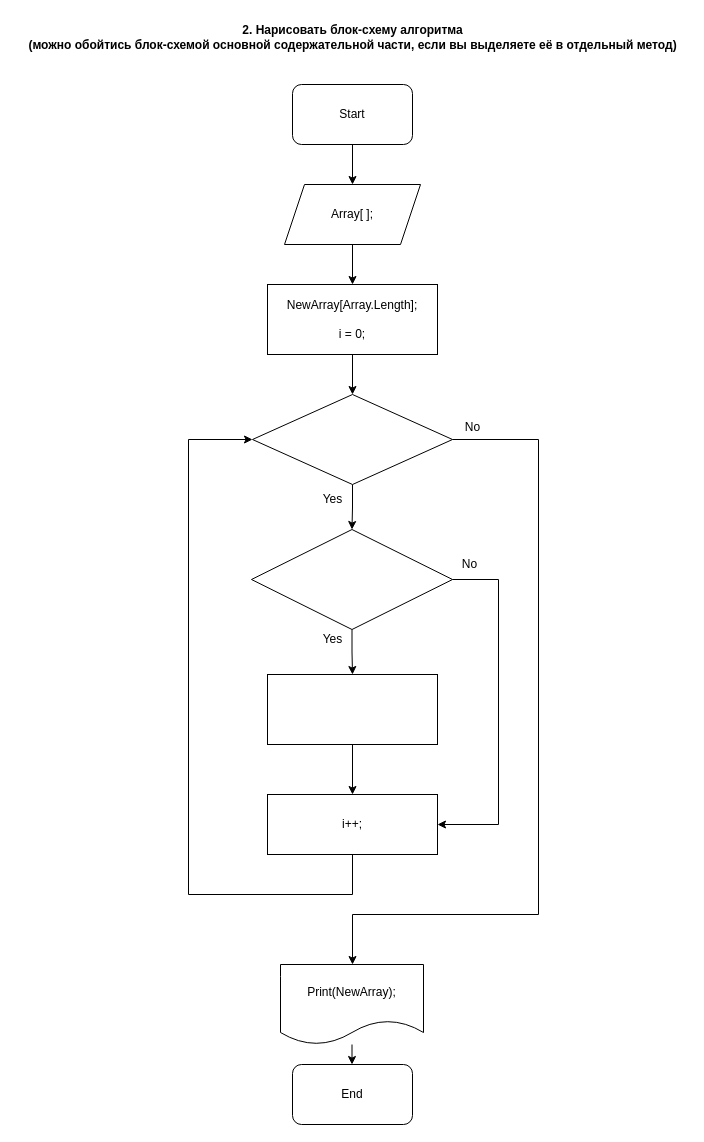
Some shapes in this 704 by 1142 pixel diagram are drawn without their labels. The shapes that lost their labels are listed below. From the top down, each one's centre as x and y in pixels, then its label:
At pixel 352 439: "i < Array.Length;".
At pixel 351 579: "Array[i].Length <= 3;".
At pixel 352 709: "NewArray[i] = Array{[i];".
